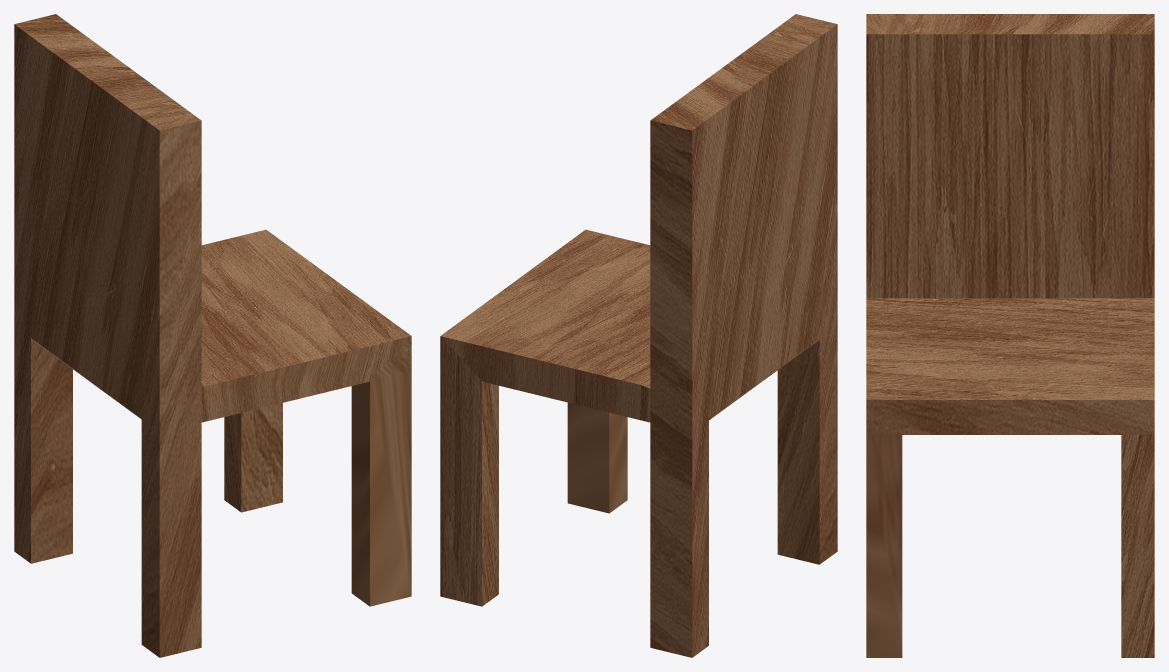
File: Chair_NoCamera.fbx
3 renders of one model, left to right at view 1: azimuth 30°, elevation 25°; view 2: azimuth 150°, elevation 25°; view 3: azimuth 270°, elevation 25°, orthographic.
Parts seen in each view (by area): view 1: chair; view 2: chair; view 3: chair.
Part boxes in pixels (x1,y1,x2,y2): chair: [14, 14, 411, 657]; chair: [440, 14, 837, 657]; chair: [866, 14, 1154, 657].
Size of the model in its own units: 150 by 300 by 150.
Materials: 1 (1 with a texture image).
